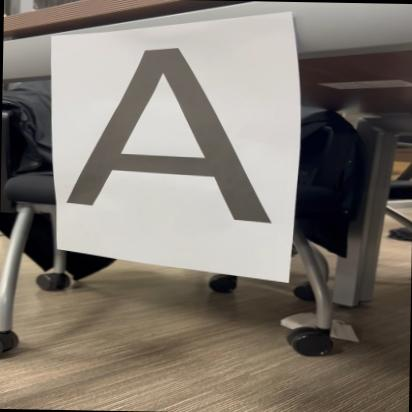seat: (63, 42, 284, 227)
